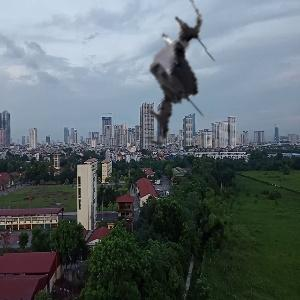drone: (109, 10, 248, 149)
